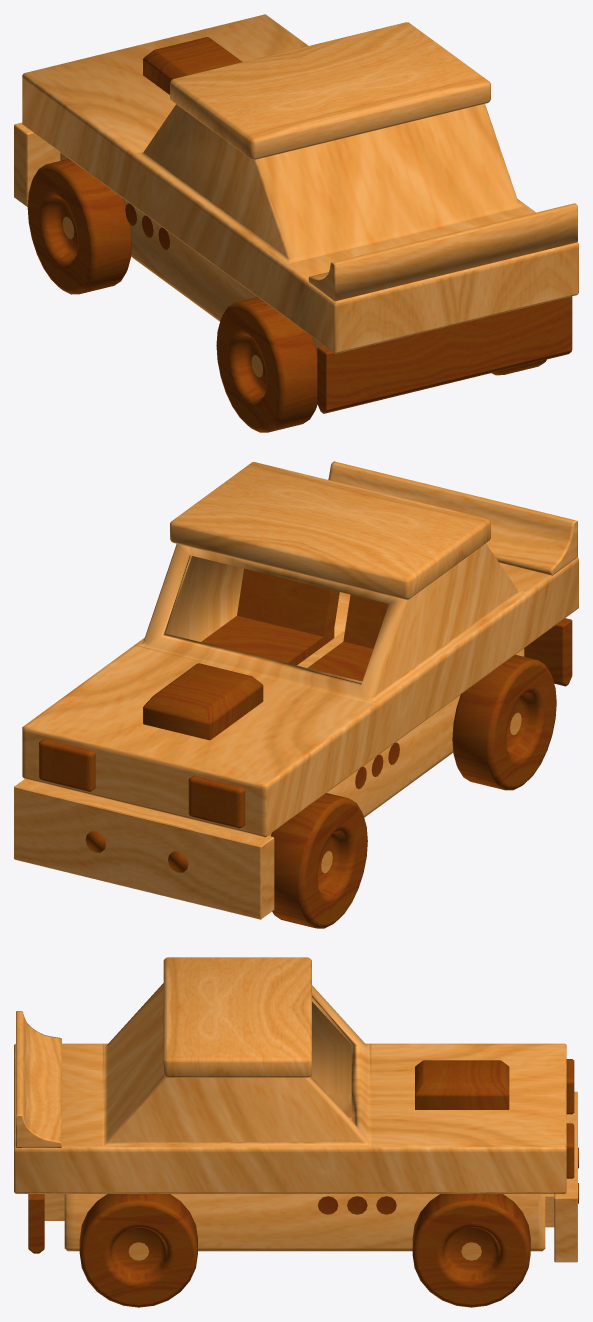
The model's file is Car.fbx.
3 views of the same model, one above another, from view 1: azimuth 30°, elevation 25°; view 2: azimuth 150°, elevation 25°; view 3: azimuth 270°, elevation 25° (orthographic). The views are drawn at different scales.
Parts seen in each view (by area): view 1: Cube; view 2: Cube; view 3: Cube.
Boxes of the visible parts, x1,y1,x2,y2 form: Cube: [14, 14, 578, 432]; Cube: [14, 461, 578, 928]; Cube: [14, 957, 578, 1307].
Size of the model in its own units: 7.44 by 7.05 by 14.92.
